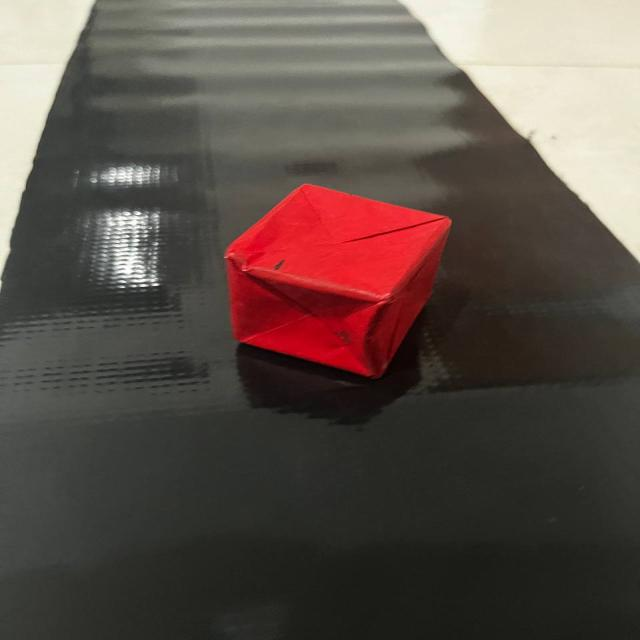Rojo: (198, 171, 474, 392)
